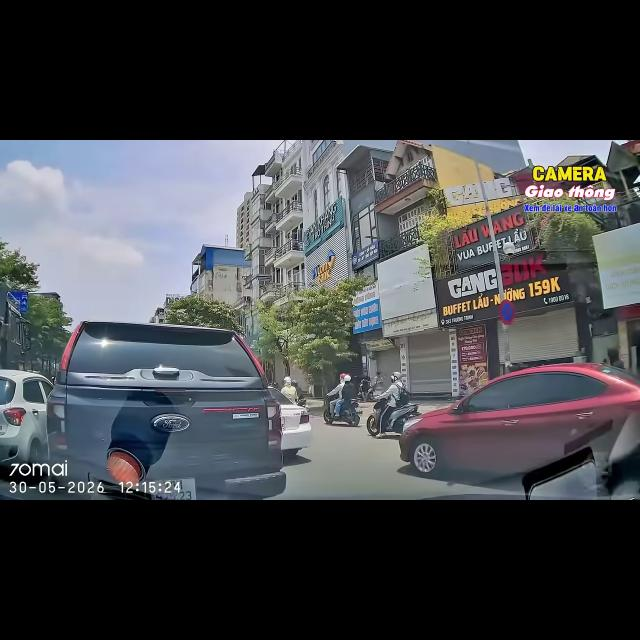car: (47, 321, 286, 499), (399, 363, 639, 474), (0, 370, 52, 465), (269, 387, 311, 458)
motorcycle: (323, 397, 362, 426), (384, 403, 421, 433), (360, 387, 374, 401), (297, 398, 308, 410)
